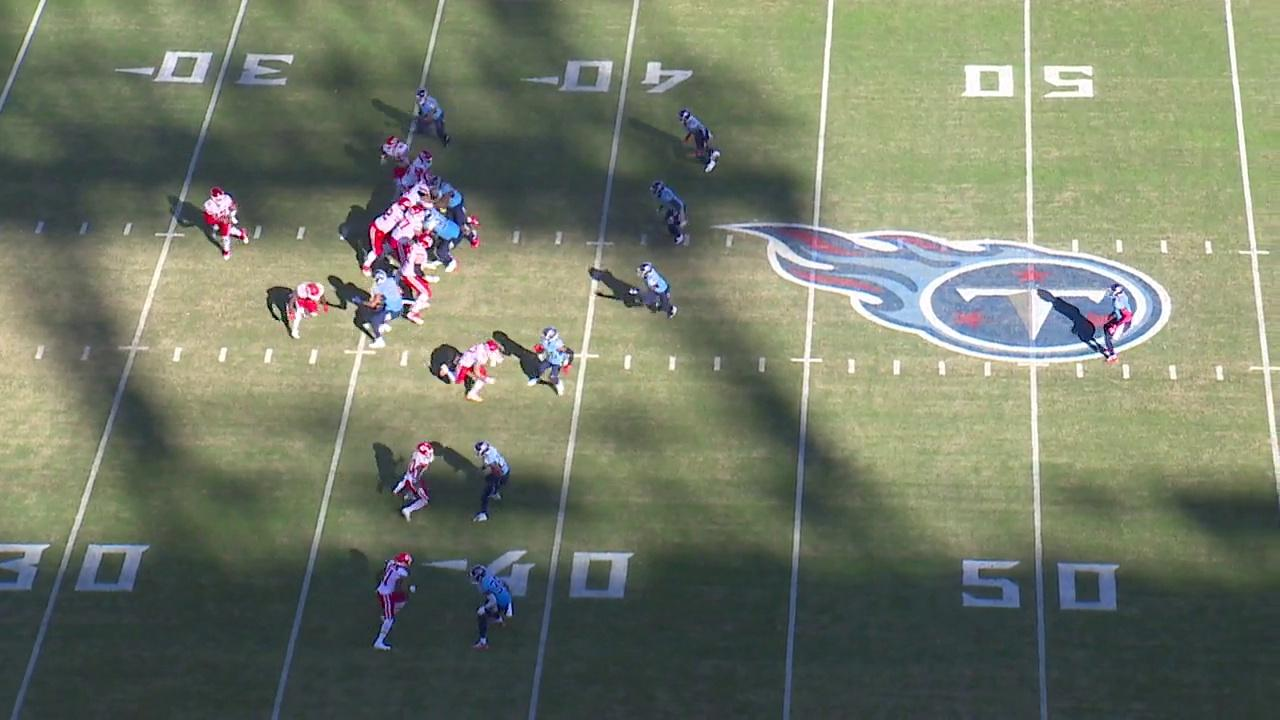defense: (350, 265, 405, 353), (423, 174, 484, 250), (467, 563, 516, 653), (524, 325, 575, 400), (470, 438, 512, 525), (1098, 280, 1136, 365), (627, 258, 679, 320), (676, 107, 722, 175), (420, 205, 464, 274), (649, 179, 690, 249), (409, 87, 453, 148)
oline: (358, 197, 413, 279), (388, 203, 437, 285), (398, 233, 441, 325), (399, 149, 437, 193), (399, 170, 435, 208)
qb: (200, 184, 252, 262)
skill: (370, 547, 421, 654), (435, 338, 506, 405), (390, 437, 440, 525), (286, 278, 331, 343), (377, 136, 414, 197)
